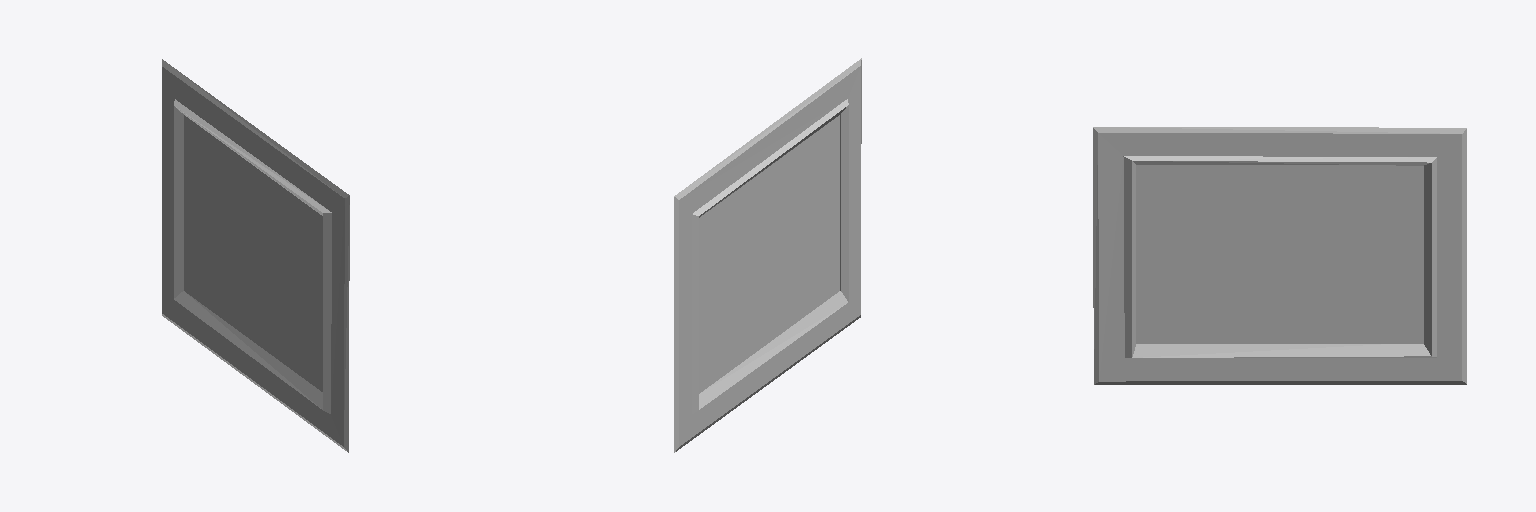
The model's file is frame002a.obj.
3 renders of one model, left to right at view 1: azimuth 30°, elevation 25°; view 2: azimuth 150°, elevation 25°; view 3: azimuth 270°, elevation 25°, orthographic.
Visible parts, largest first — view 1: frame002a; view 2: frame002a; view 3: frame002a.
Boxes of the visible parts, box(x1,y1,x2,y2) form: frame002a: box(162, 59, 349, 452); frame002a: box(674, 58, 861, 452); frame002a: box(1093, 127, 1466, 384).
Bounding box in the file's own units: 1.41 × 25.96 × 34.12.